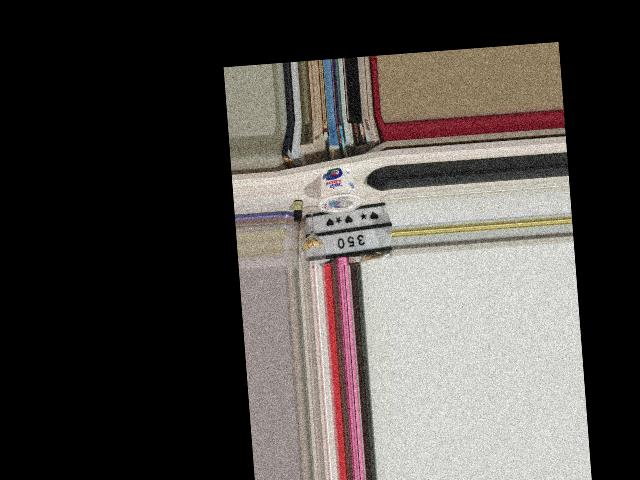cotage: (318, 163, 358, 215)
